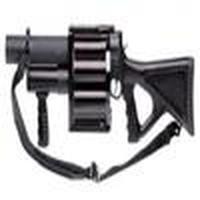gun: (2, 32, 200, 137)
